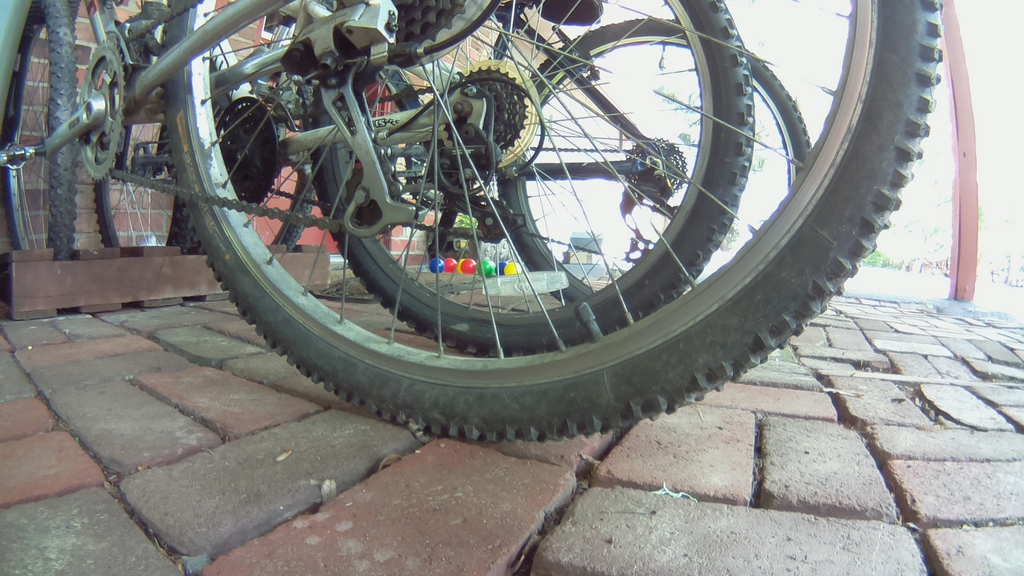ball: (476, 261, 495, 277)
